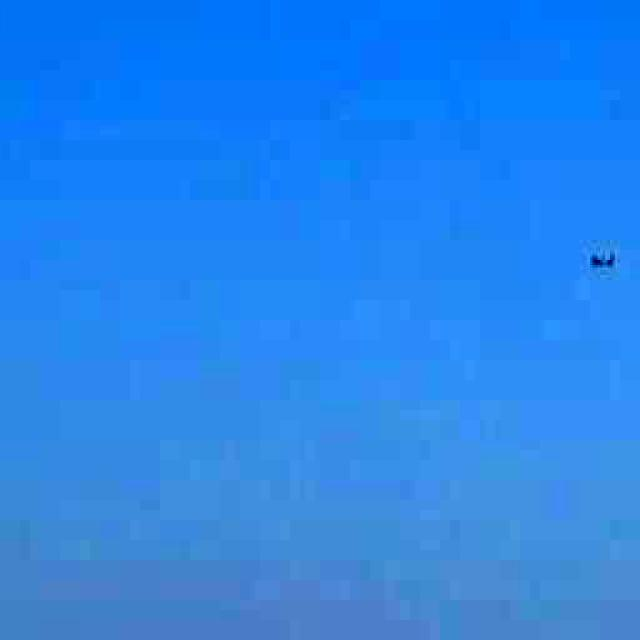bird: (570, 230, 630, 292)
